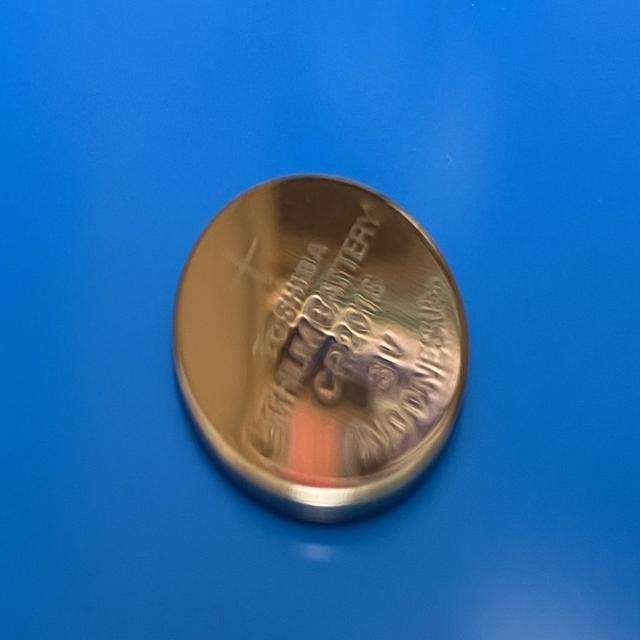COIN: (170, 176, 468, 528)
